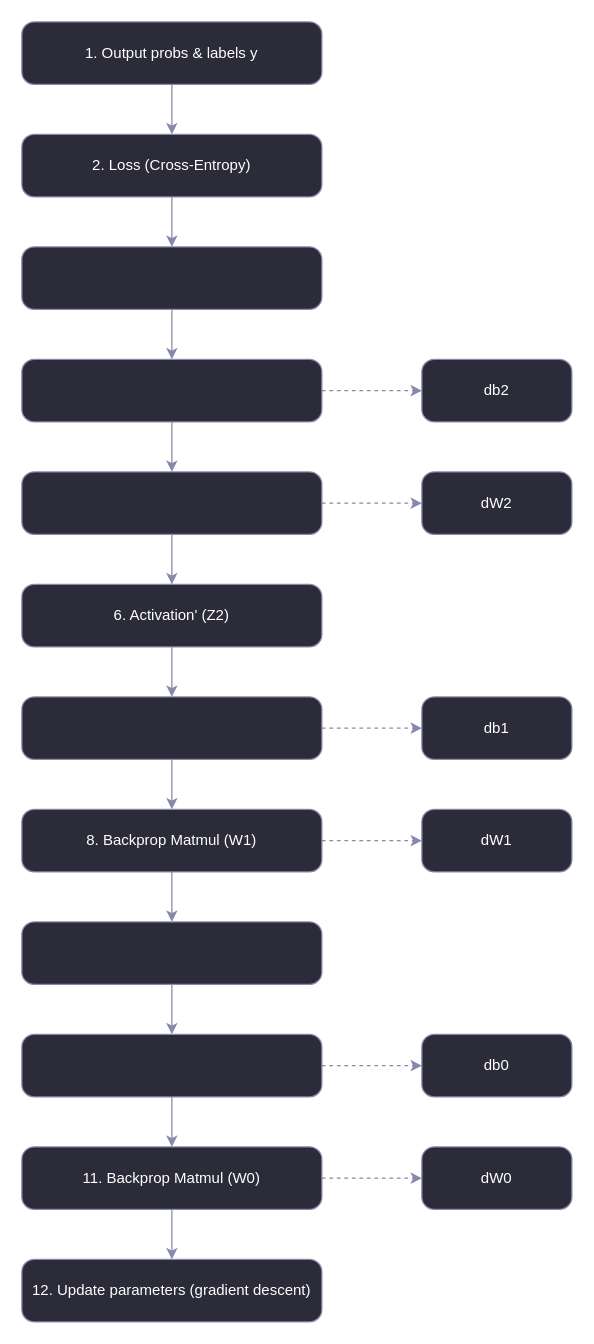
Image size: 594x1344. Some labels were removed from this diagram. The box of each missing label's shape, as (x1, y1, x2, y2) in pixels:
10. Backprop Add (b0): (21, 1033, 322, 1097)
3. dLogits = probs - y: (21, 246, 322, 309)
4. Backprop Add (b2): (21, 358, 322, 422)
5. Backprop Matmul (W2): (21, 471, 322, 534)
7. Backprop Add (b1): (21, 696, 322, 759)
9. Activation' (Z1): (21, 921, 322, 984)
